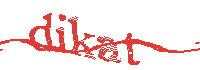a: (96, 36, 120, 64)
d: (28, 12, 53, 52)
i: (54, 13, 67, 53)
k: (68, 16, 96, 61)
t: (122, 31, 141, 68)
